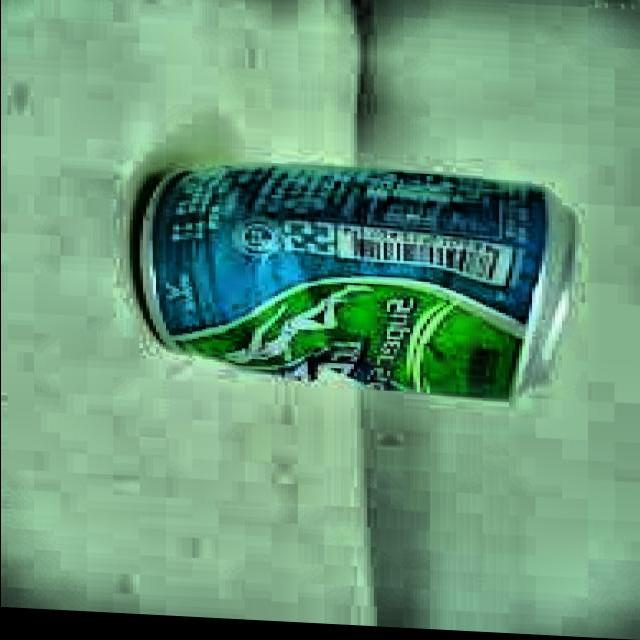Aluminum Can: (114, 146, 596, 416)
